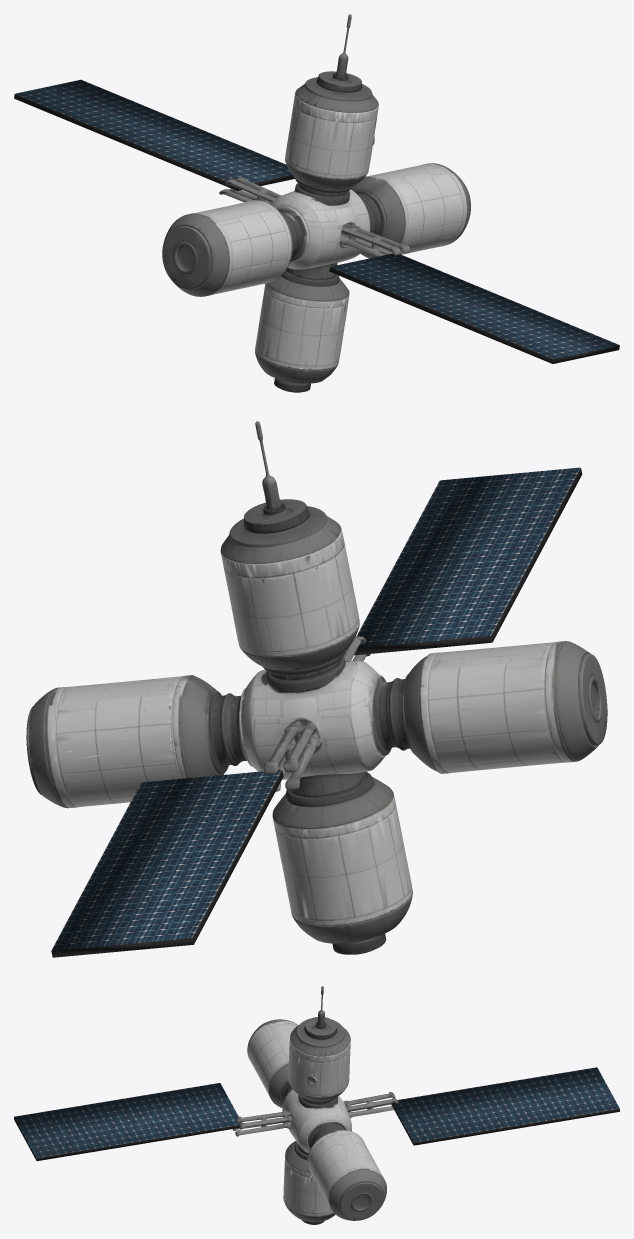
File: station.glb
3 views of the same model, one above another, from view 1: azimuth 30°, elevation 25°; view 2: azimuth 150°, elevation 25°; view 3: azimuth 270°, elevation 25° (orthographic). The views are drawn at different scales.
Parts seen in each view (by area): view 1: material, Plane.001; view 2: material, Plane.001; view 3: Plane.001, material.
Part boxes in pixels (left/top/right/bottom): material: left=162, top=14, right=470, bottom=392; Plane.001: left=14, top=79, right=619, bottom=363; material: left=26, top=421, right=607, bottom=954; Plane.001: left=51, top=467, right=582, bottom=957; Plane.001: left=14, top=1067, right=619, bottom=1160; material: left=232, top=986, right=398, bottom=1224.
Size of the model in its own units: 2.52 by 2.49 by 5.33.
Materials: 3 (2 with a texture image).
